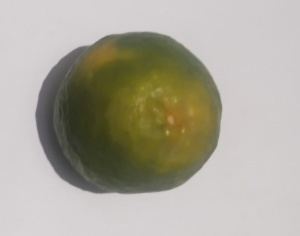BAD: (50, 28, 223, 191)
